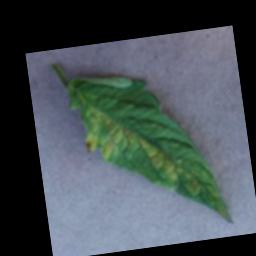Leaf_Mold: (78, 95, 180, 198)
